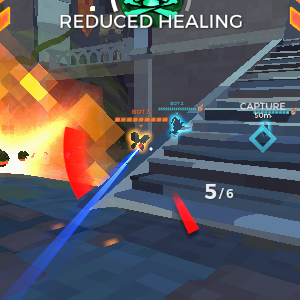model: (129, 127, 148, 153)
